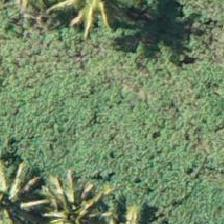coconut_tree: (21, 173, 111, 223), (0, 153, 49, 223)
